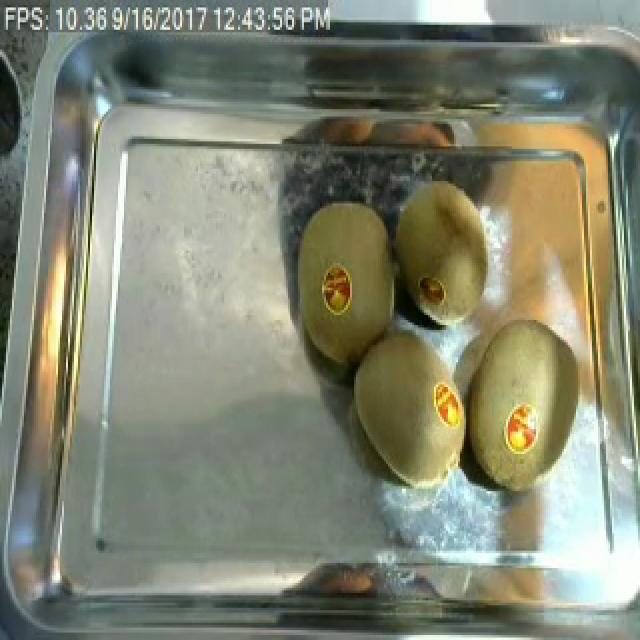Fruit: (280, 183, 406, 374), (342, 320, 474, 501), (390, 164, 508, 340)
